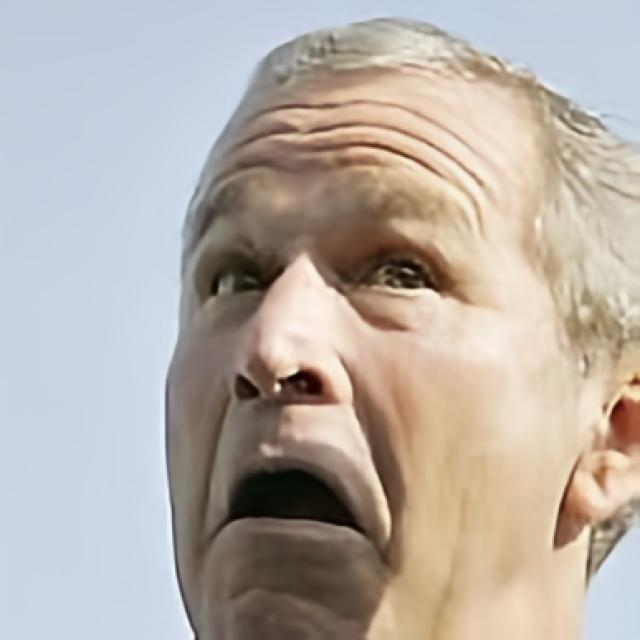disgust: (164, 68, 570, 640)
